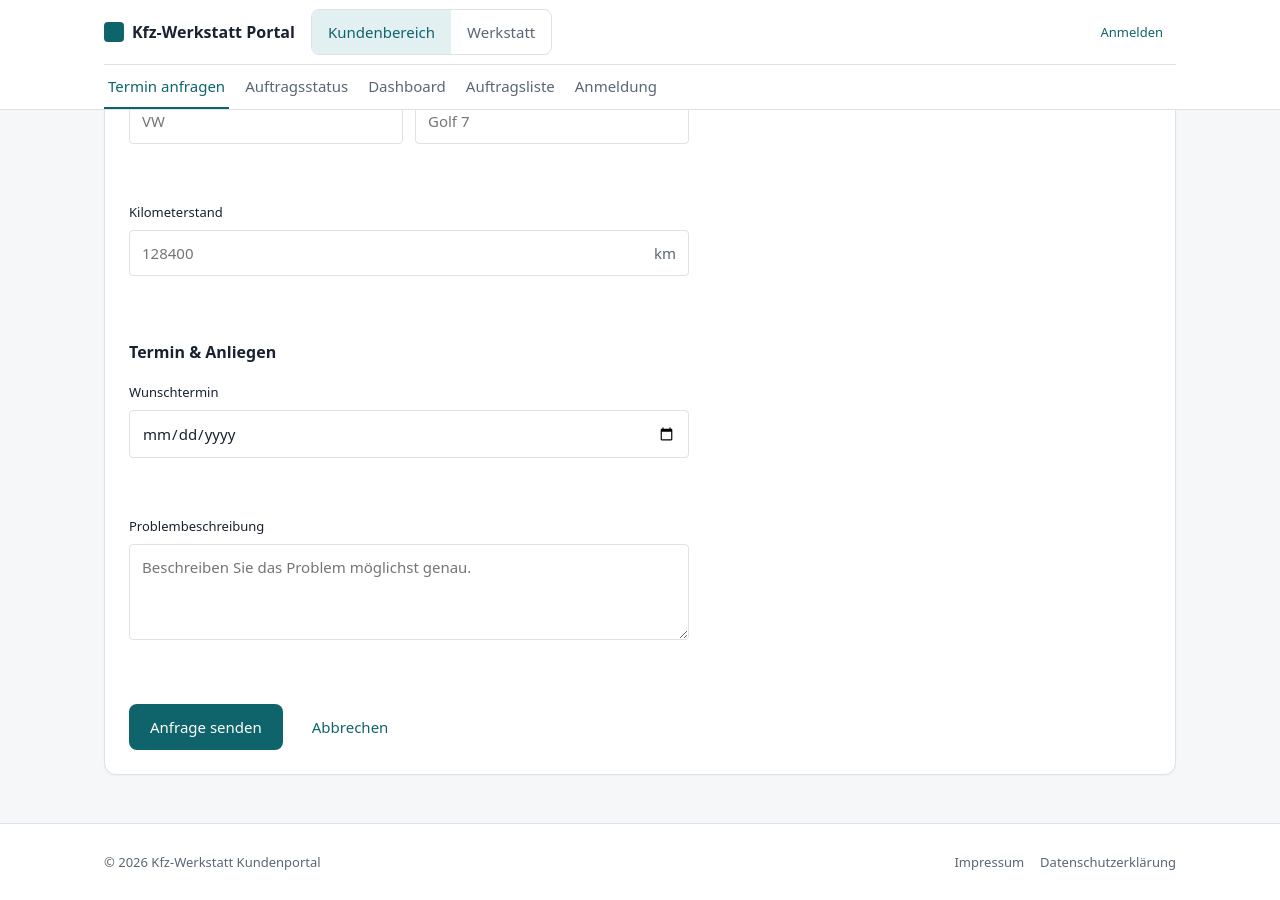
Scenario: footer legal links › opens the Impressum from another page
The image size is (1280, 900).
(page scrolled)
Click the link "Impressum".
click(989, 862)  # box [954,853,1024,871]
(page scrolled)
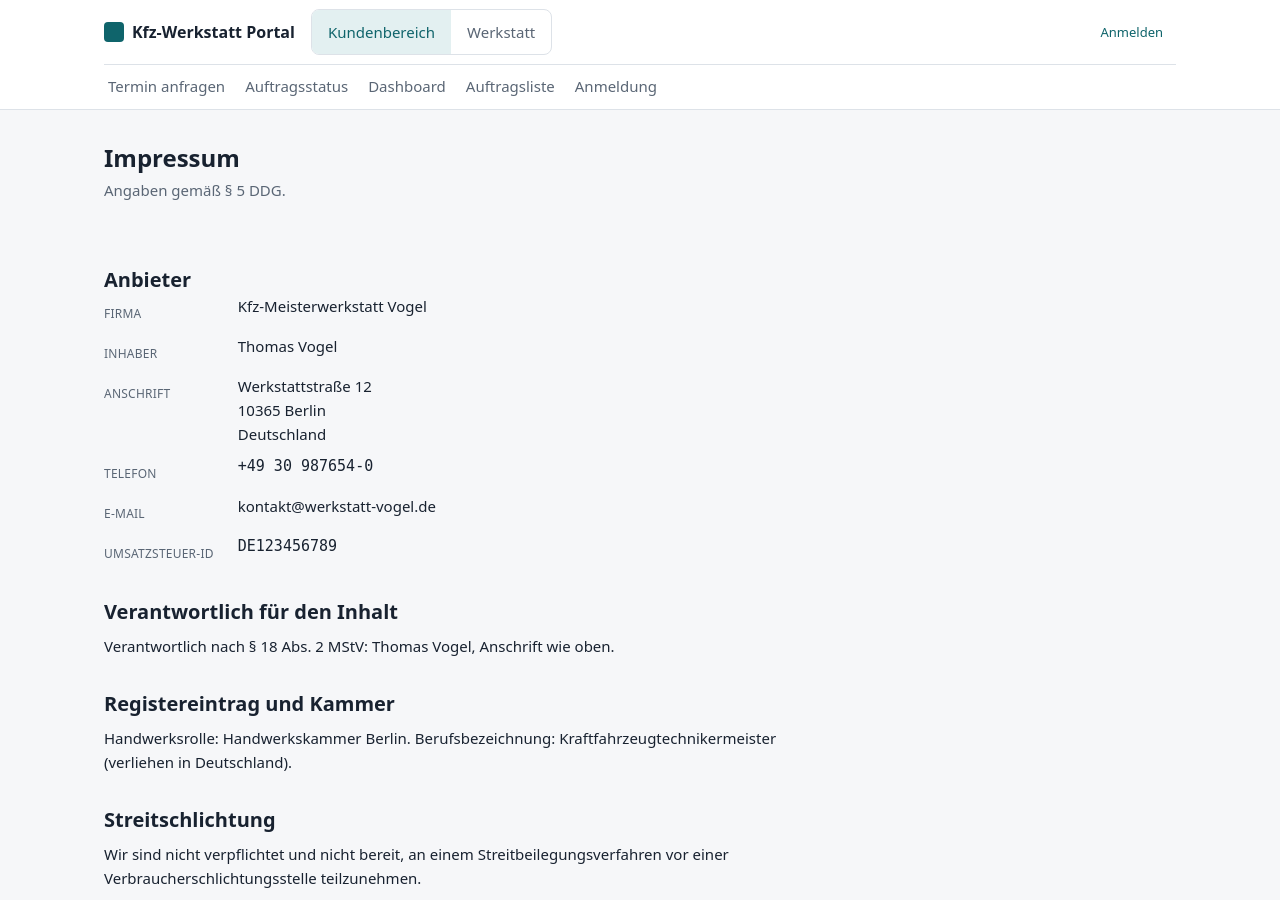
Result: the heading "Impressum" is shown at [104,141,240,174]
